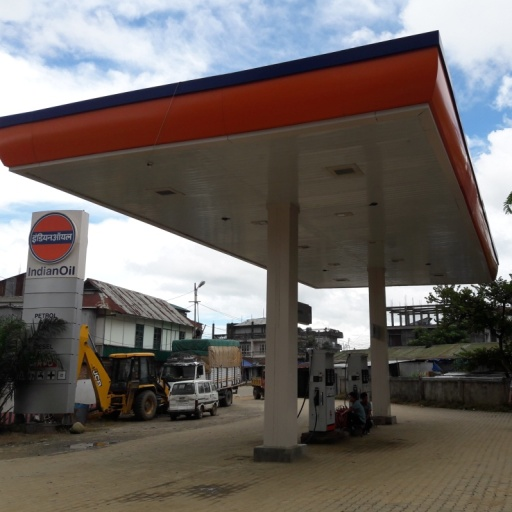roof: (1, 33, 510, 293)
